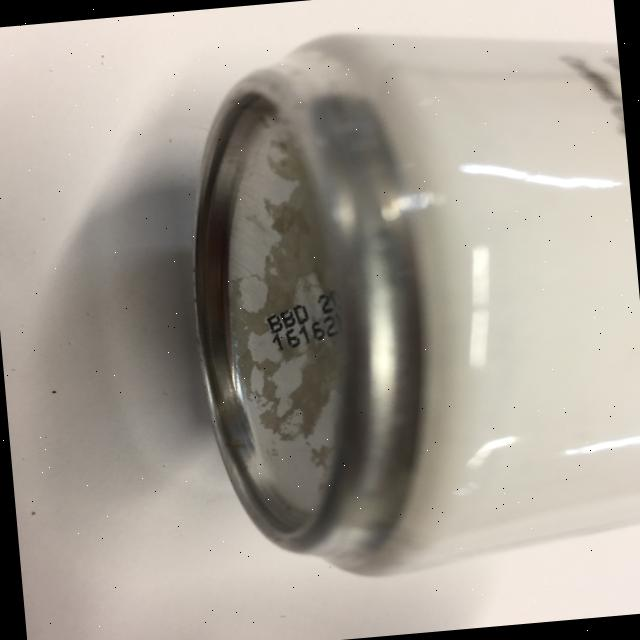metal: (168, 6, 640, 589)
